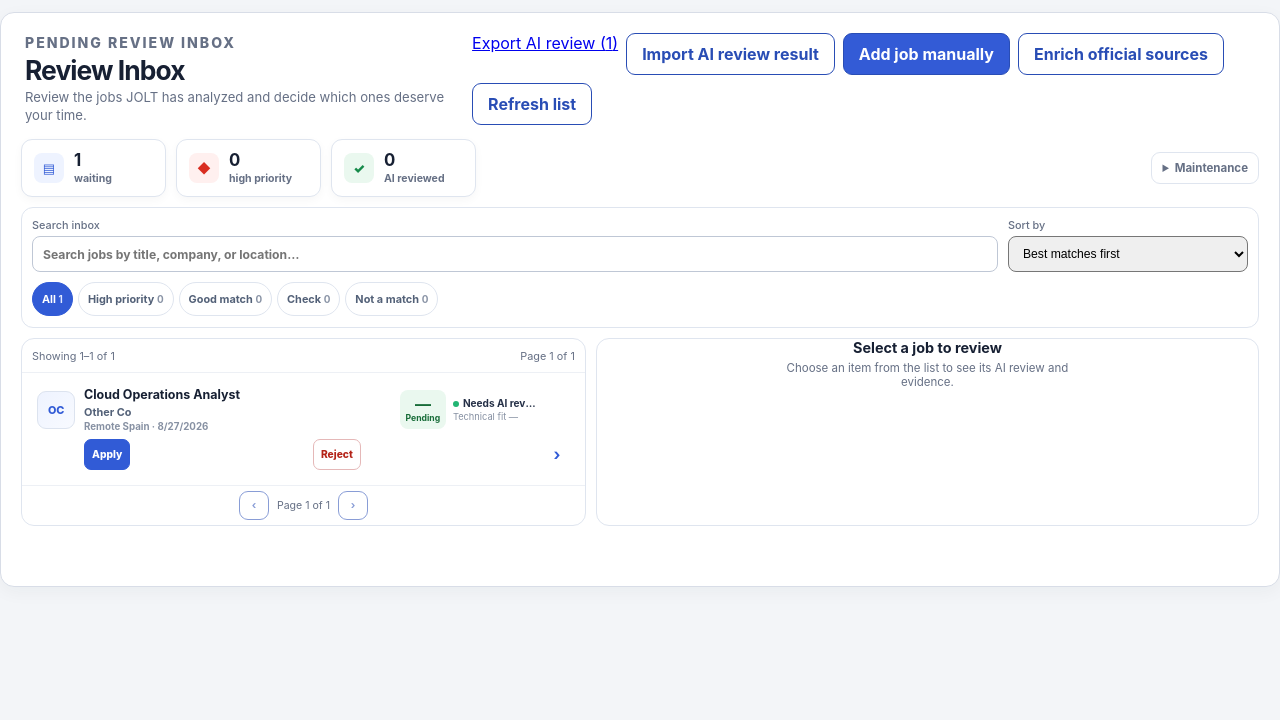
Test: App AI review workflow › allows Reject without AI review from the reject/list action
Expected: the heading "Cloud Operations Analyst" is shown, [84, 387, 240, 402]
Step 1. Click the button "Reject" → (337, 454), box [313, 439, 361, 470]
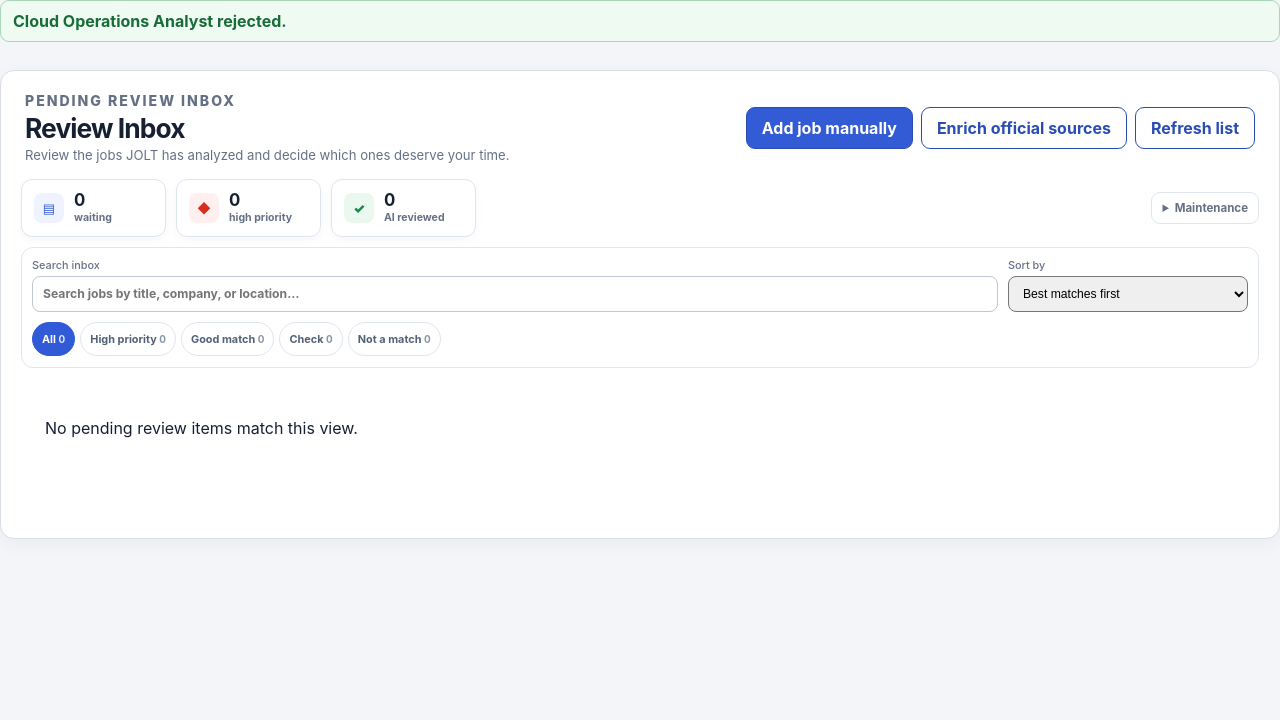
Expected: the message shows "rejected", [13, 11, 287, 31]
